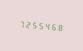eight: (59, 21, 65, 33)
five: (38, 19, 44, 31), (31, 19, 37, 30)
four: (45, 20, 51, 31)
seven: (17, 17, 23, 29)
six: (52, 21, 58, 32)
two: (24, 18, 30, 30)
